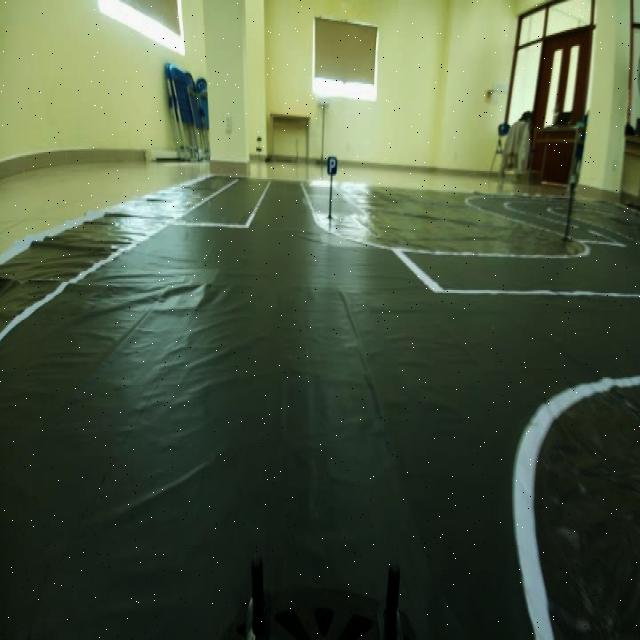parking: (322, 152, 338, 178)
